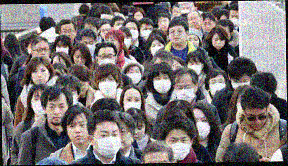with_mask: (94, 128, 122, 159), (165, 134, 192, 161), (175, 82, 196, 103), (98, 75, 117, 97), (195, 116, 211, 141), (153, 73, 171, 95), (31, 92, 46, 117), (122, 95, 142, 112), (209, 77, 226, 96), (125, 66, 142, 84), (97, 51, 116, 67), (230, 76, 251, 90), (187, 59, 203, 75), (126, 25, 139, 41), (81, 39, 95, 53), (140, 25, 153, 40), (55, 43, 70, 55), (229, 13, 240, 27), (123, 35, 132, 49)
without_mask: (66, 118, 89, 144), (46, 101, 68, 126), (244, 110, 268, 131), (168, 26, 187, 45), (31, 66, 50, 84), (119, 125, 132, 151), (60, 27, 76, 44), (33, 45, 50, 60), (133, 122, 146, 140), (187, 14, 202, 29), (72, 52, 87, 66), (211, 35, 225, 49), (157, 17, 170, 31), (201, 19, 215, 32), (188, 35, 200, 46), (100, 26, 111, 37)
